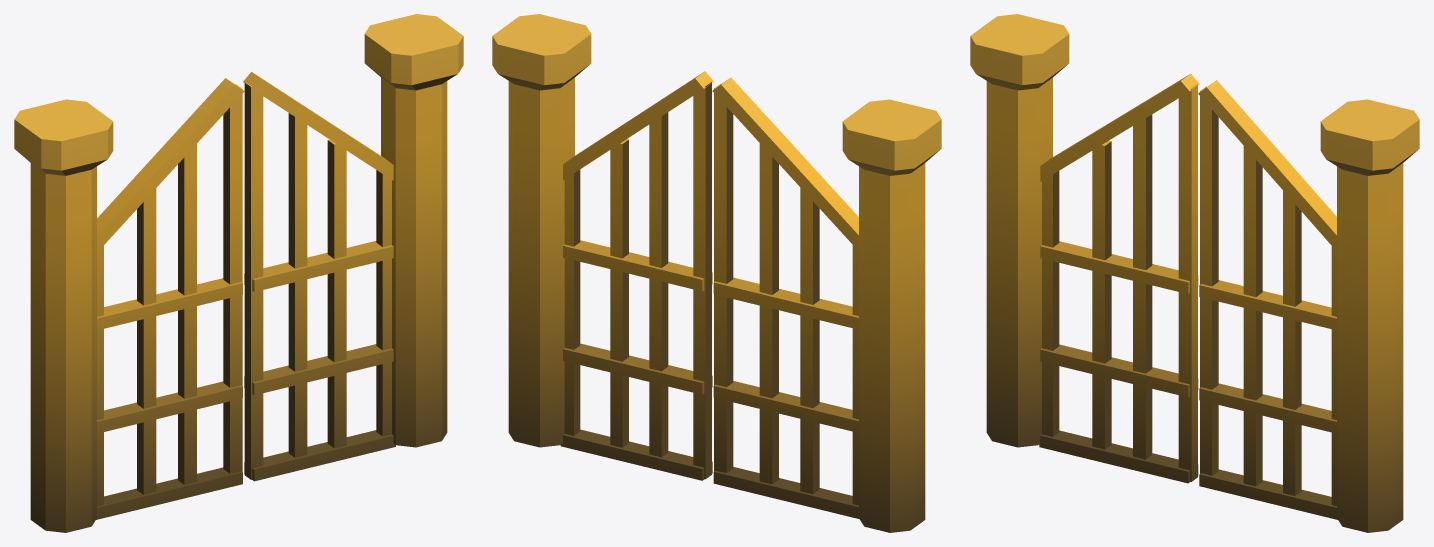
Rendered from Gate.fbx.
3 views of the same model, side by side, from view 1: azimuth 30°, elevation 25°; view 2: azimuth 150°, elevation 25°; view 3: azimuth 330°, elevation 25° (orthographic).
Parts seen in each view (by area): view 1: Wall, Left_Gate, Right_Gate; view 2: Wall, Right_Gate, Left_Gate; view 3: Wall, Right_Gate, Left_Gate.
Boxes of the visible parts, x1,y1,x2,y2 form: Wall: (14,14,463,532); Left_Gate: (243,72,395,481); Right_Gate: (96,78,244,519); Wall: (492,14,941,532); Right_Gate: (712,77,858,518); Left_Gate: (560,71,713,480); Wall: (970,14,1419,532); Right_Gate: (1039,74,1199,483); Left_Gate: (1198,80,1337,519).
Bounding box in the file's own units: 484 × 441 × 82.79.
Materials: 1 (1 with a texture image).
